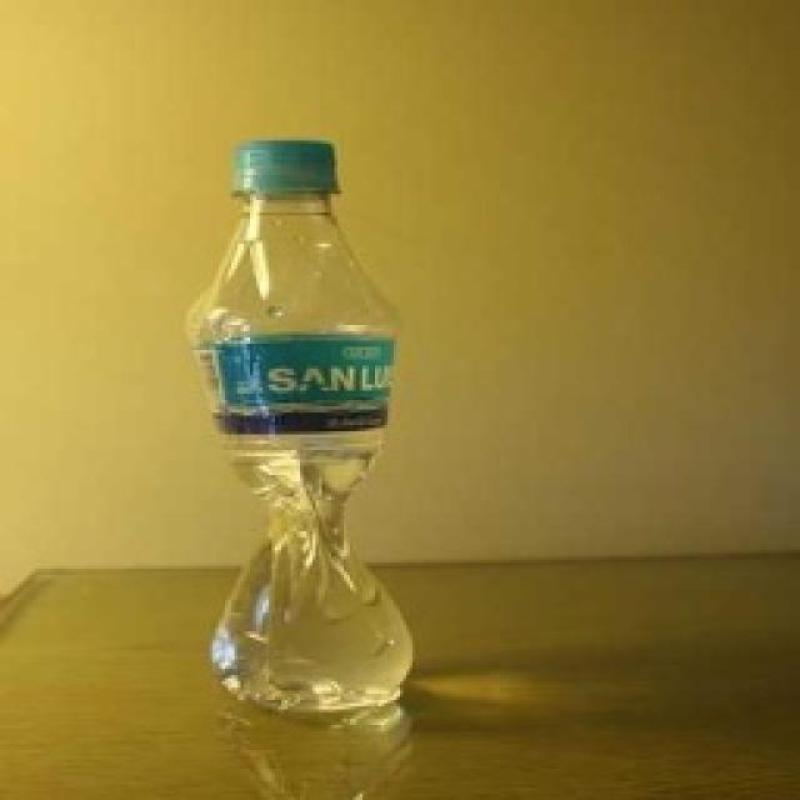botella: (173, 135, 417, 714)
